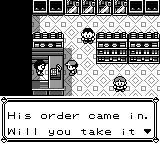leer: (49, 64, 64, 80)
main: (66, 60, 78, 76)
no-caminable: (0, 0, 32, 97), (97, 32, 159, 64), (65, 0, 128, 16), (33, 33, 64, 56), (32, 0, 65, 16), (129, 0, 159, 16), (32, 80, 48, 95), (49, 80, 64, 95), (50, 55, 63, 64)
npc: (81, 28, 96, 44), (113, 76, 128, 92), (34, 59, 47, 76)
texto: (1, 96, 159, 143)
